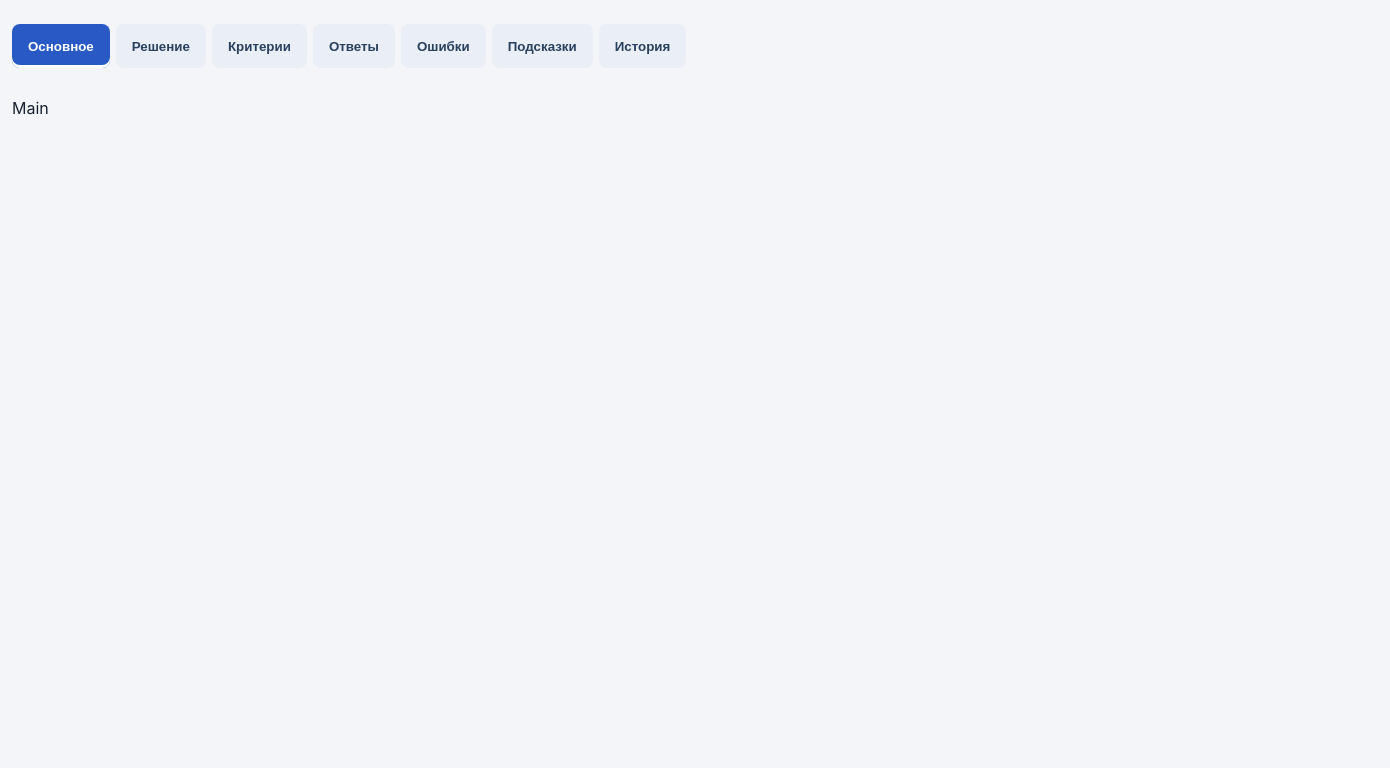
loads lazily and preserves dirty form
This screenshot has width=1390, height=768.
Click the tab "Решение".
click(161, 46)  # box x1=116 y1=24 x2=206 y2=68
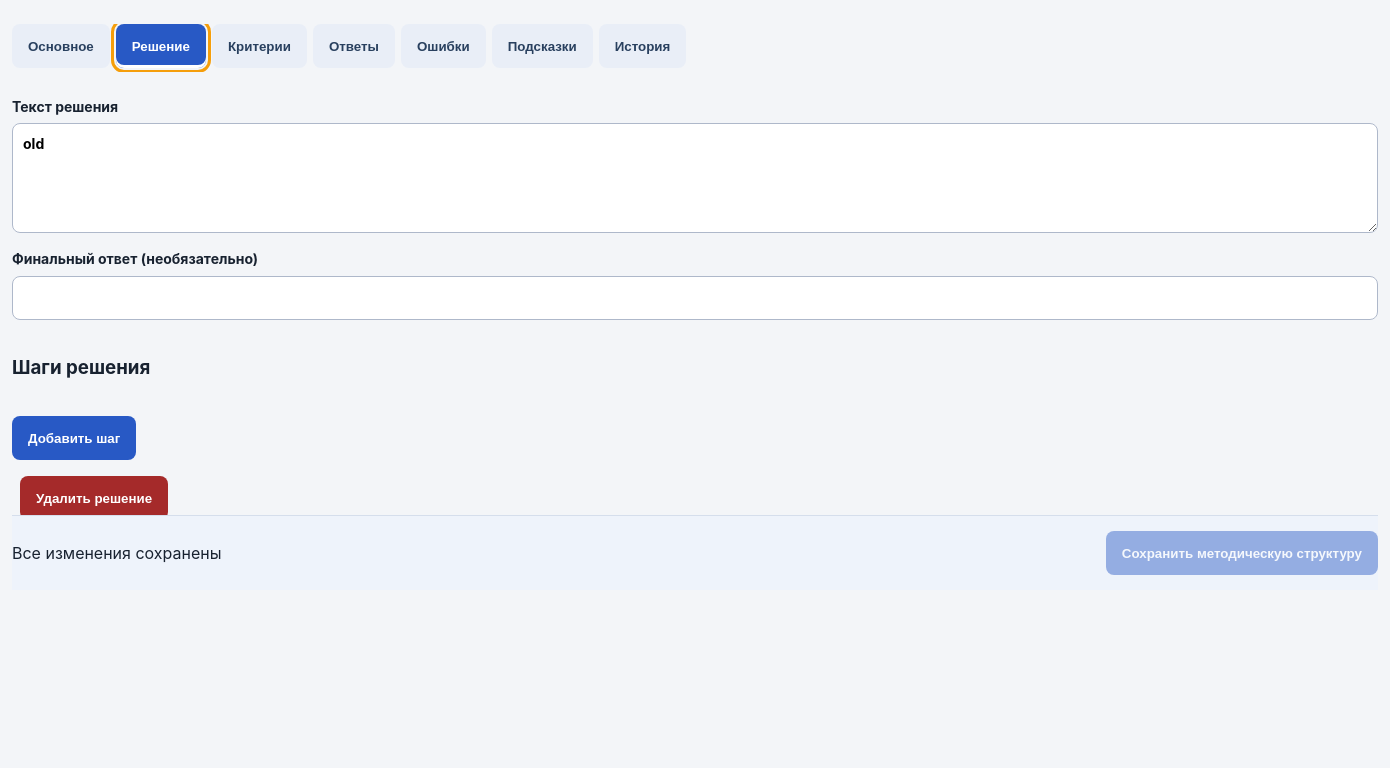
Type " changed" into the text box showing "old".
click(695, 178); type(" changed")  # box x1=12 y1=123 x2=1378 y2=233
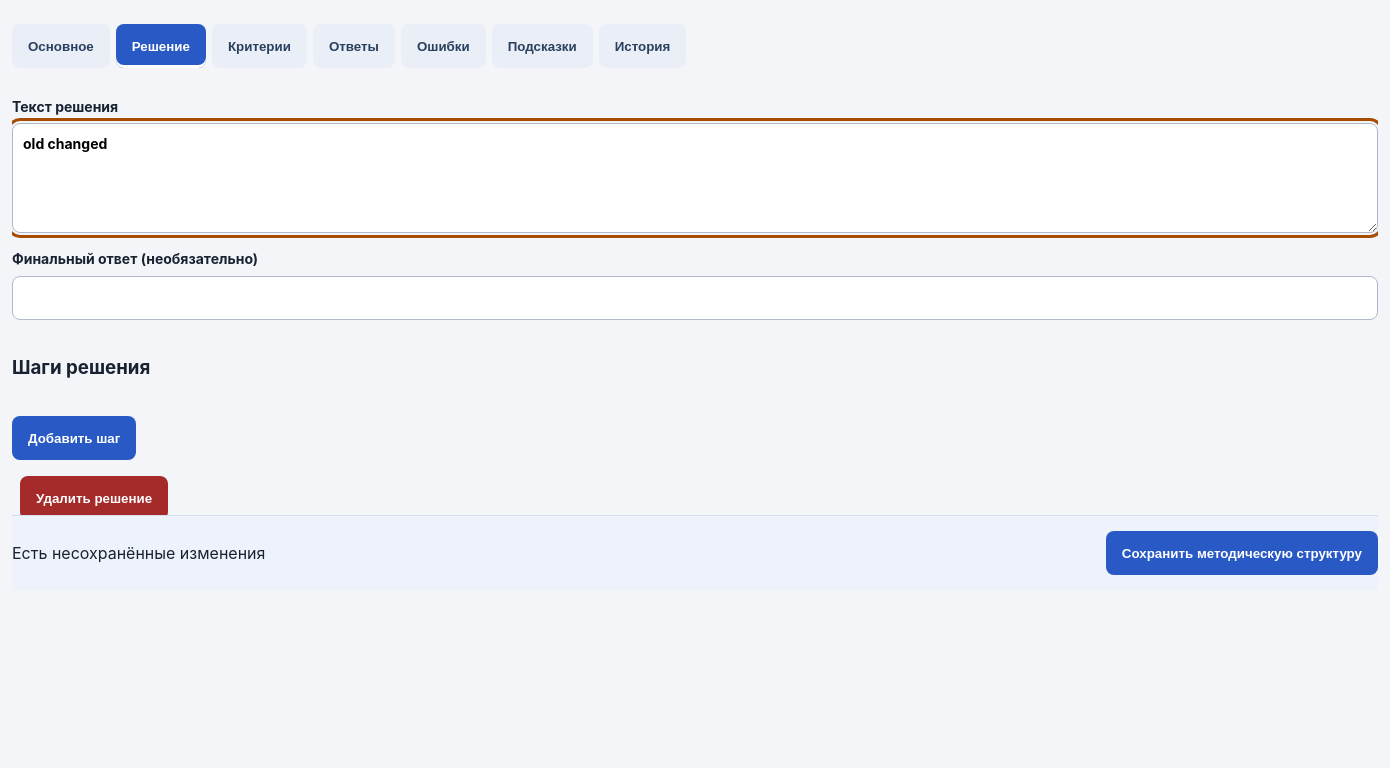
Click the tab "История".
click(642, 46)  # box x1=599 y1=24 x2=686 y2=68
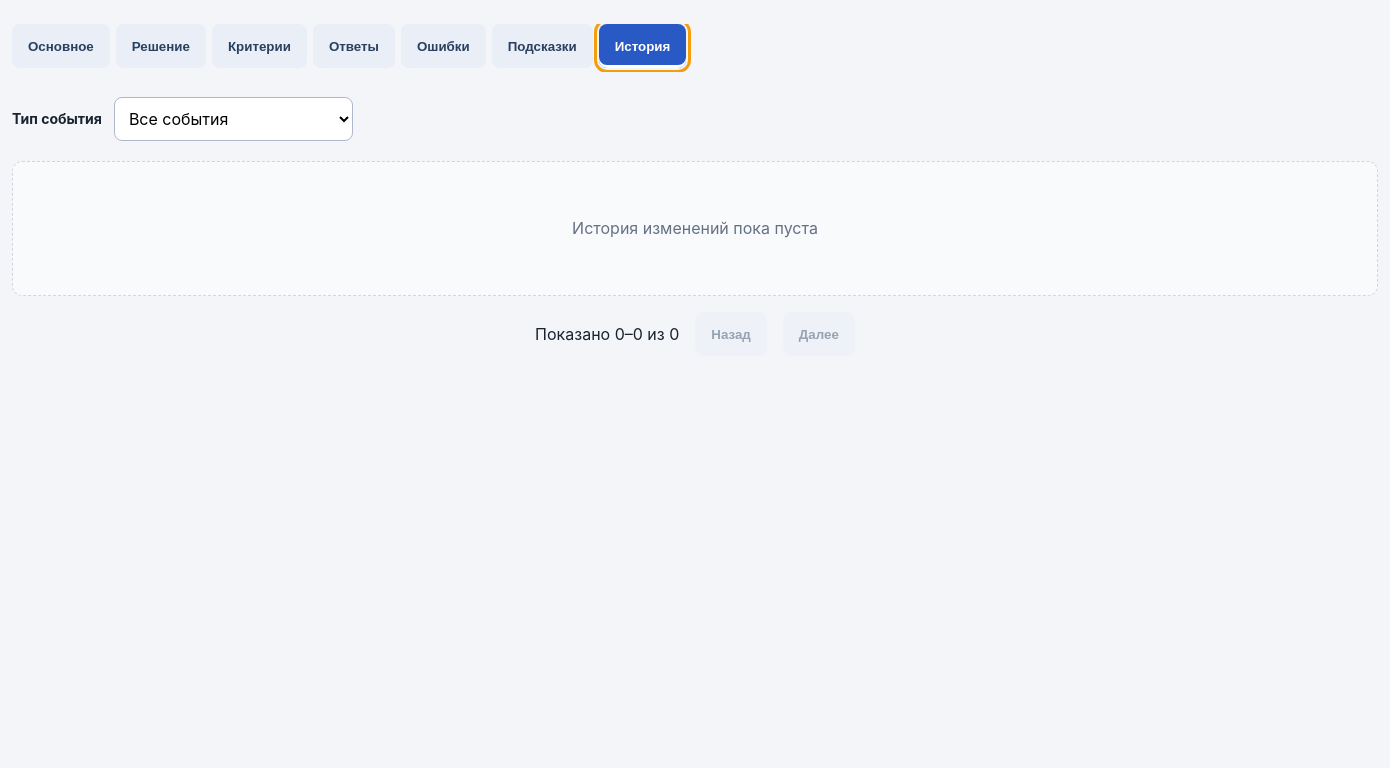
Expected: the text "История изменений пока пуста" is shown, x1=12 y1=161 x2=1378 y2=296
Click the tab "Решение".
click(161, 46)  # box x1=116 y1=24 x2=206 y2=68
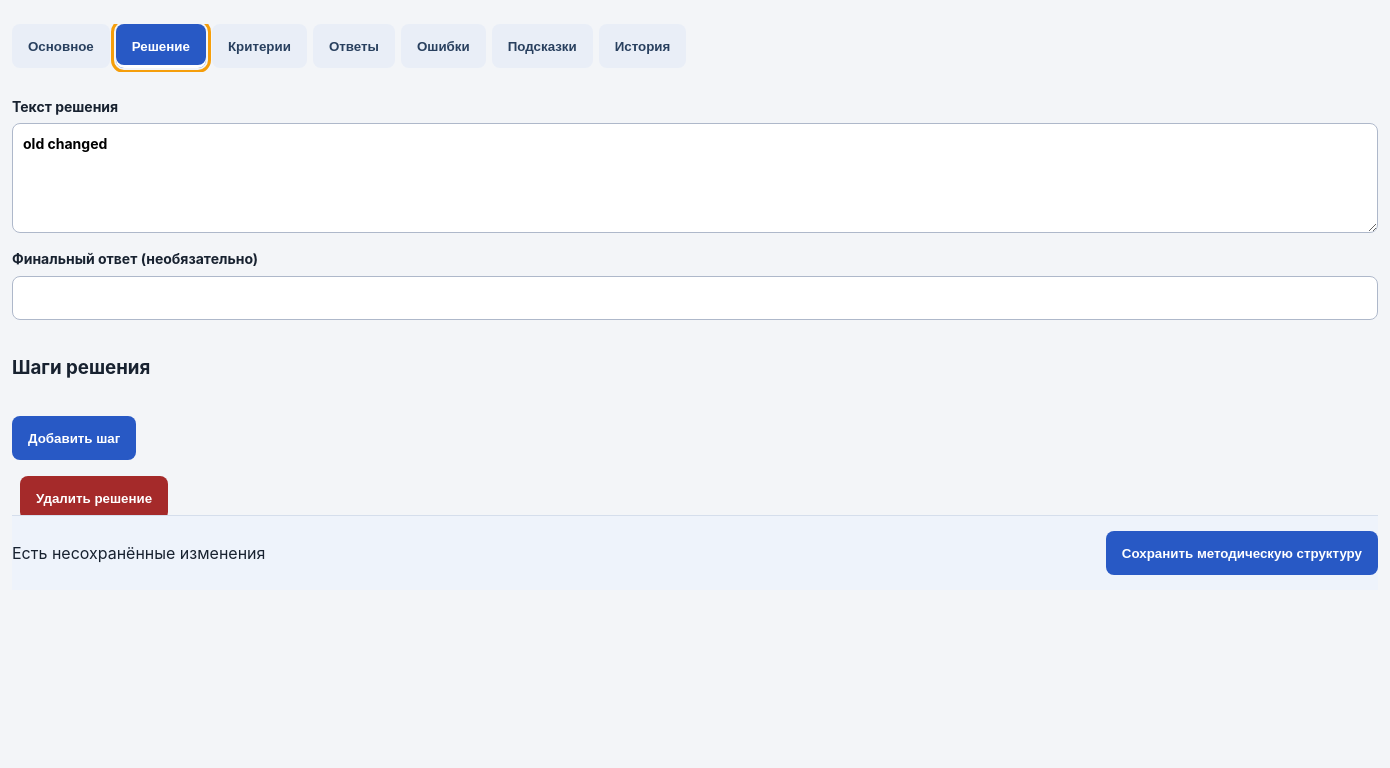
Expected: the text box showing "old changed" is shown, x1=12 y1=123 x2=1378 y2=233
